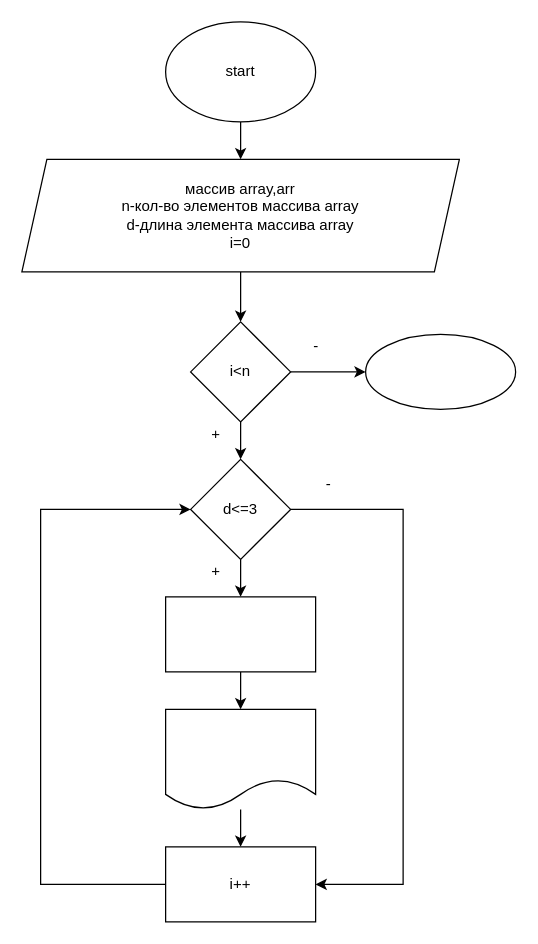
Some shapes in this 538 by 944 pixel diagram are drawn without their labels. The shapes that lost their labels are listed below. From the top down, each one's centre as x and y in pixels, then its label:
(440,371): end
(240,634): array(i)=arr(i)
(240,758): arr(i)
